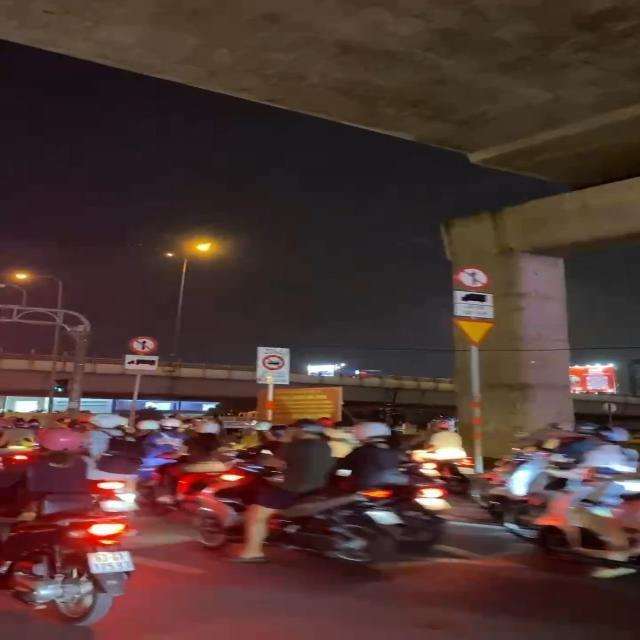136-cam-di-thang: (452, 266, 492, 290), (129, 336, 158, 354)
208-giao-nhau-voi-duong-uu-tien: (451, 316, 496, 346)
